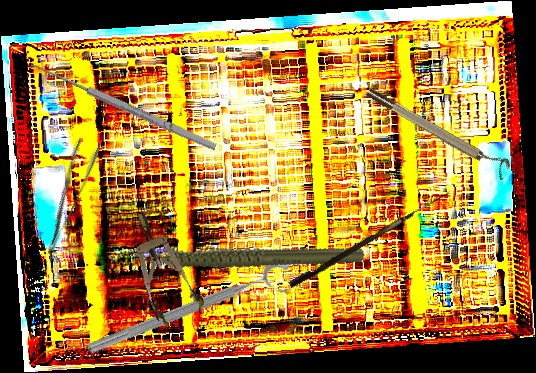Dressing Forceps: (28, 136, 103, 257)
Fixation Ring: (83, 256, 300, 372), (364, 79, 513, 181)
Handpiece: (127, 195, 368, 313)
Hook Surgical: (25, 58, 219, 160), (288, 185, 450, 291)
Speculum: (118, 203, 208, 331)
